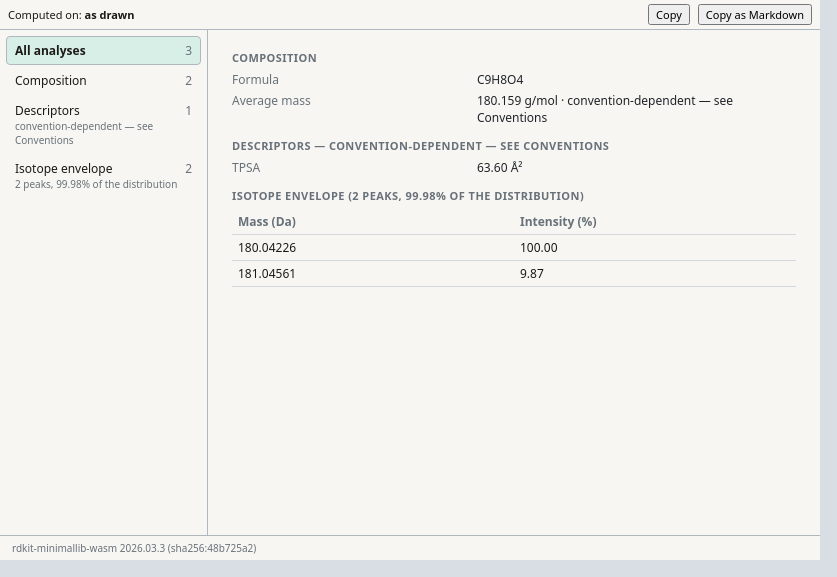
it: MolecularInspectorPane › shows Copy failed when the caller reports the clipboard write did not land
Click the button "Copy" at (669, 14), box 648,4 -> 690,25
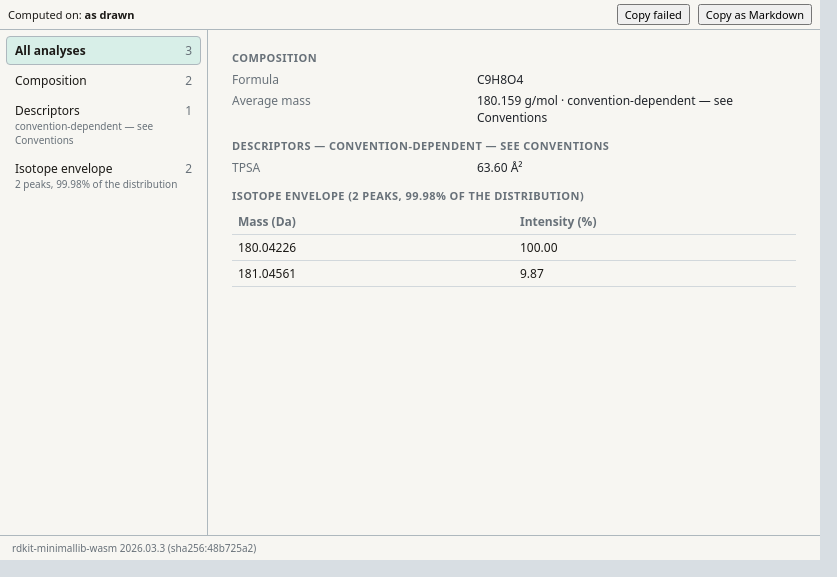
Result: the button "Copy failed" is shown at 617,4 -> 690,25
